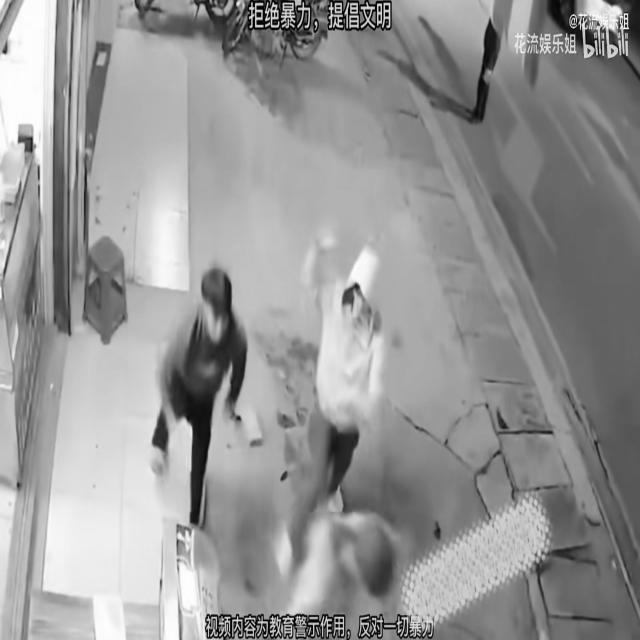nofight: (153, 247, 241, 538), (307, 222, 377, 531)
